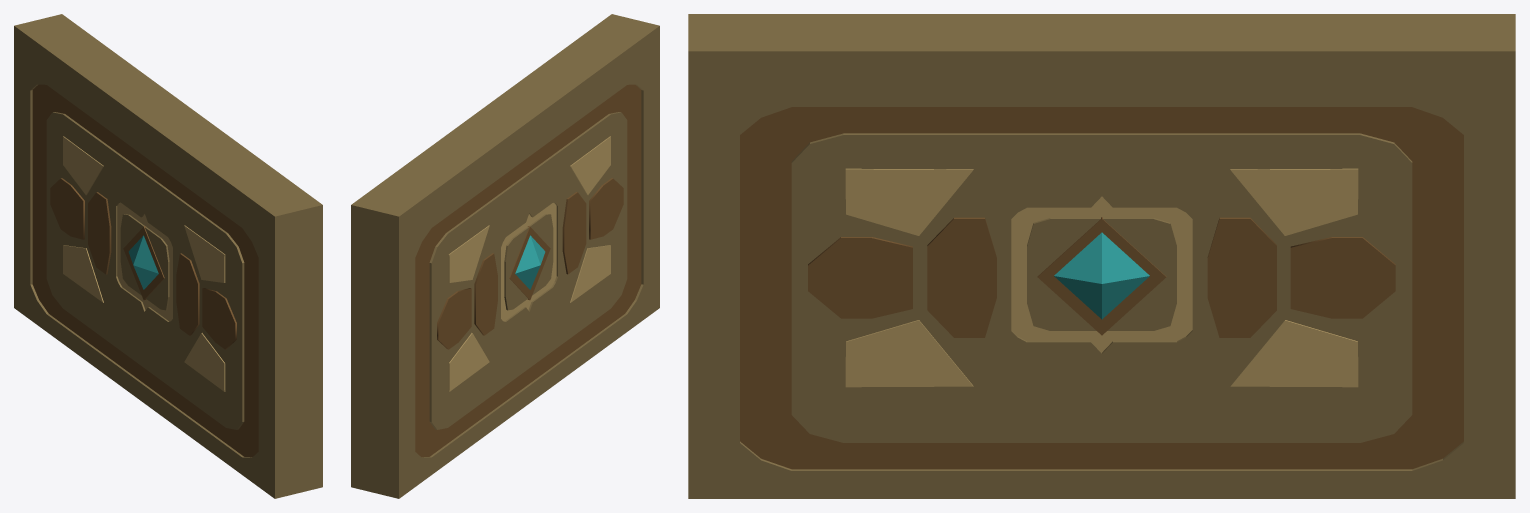
The model's file is Temple Door.fbx.
The picture shows the model from 3 angles, left to right: view 1: azimuth 30°, elevation 25°; view 2: azimuth 150°, elevation 25°; view 3: azimuth 270°, elevation 25°; orthographic projection. The views are drawn at different scales.
Visible parts, largest first — view 1: pCone4; view 2: pCone4; view 3: pCone4.
Part boxes in pixels (x1,y1,x2,y2): pCone4: [14, 14, 322, 498]; pCone4: [351, 14, 659, 498]; pCone4: [688, 14, 1515, 498].
Size of the model in its own units: 0.9817 by 3.76 by 6.3.
